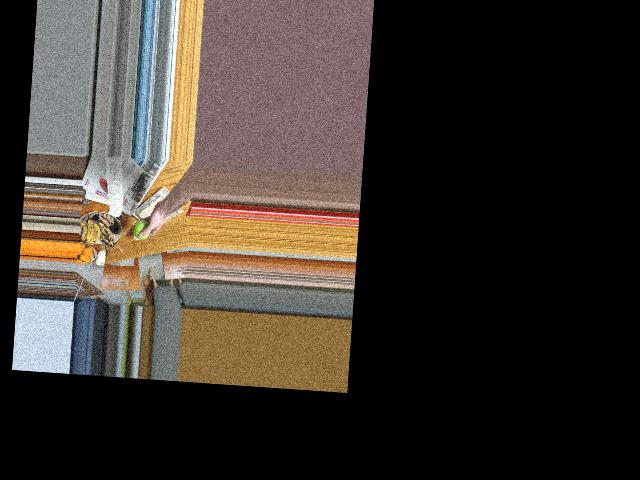apple: (133, 217, 153, 240)
